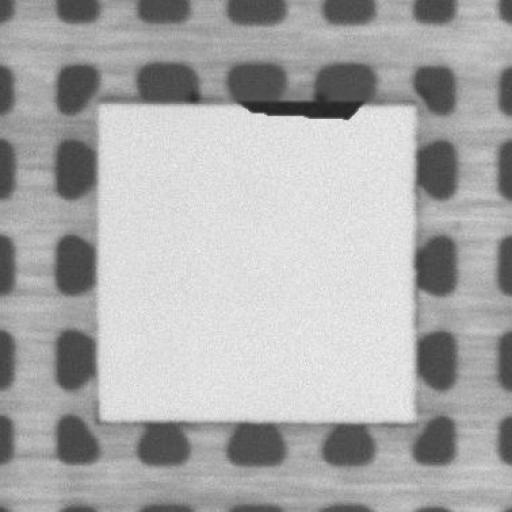DIE_BROKEN: (243, 98, 367, 119)
